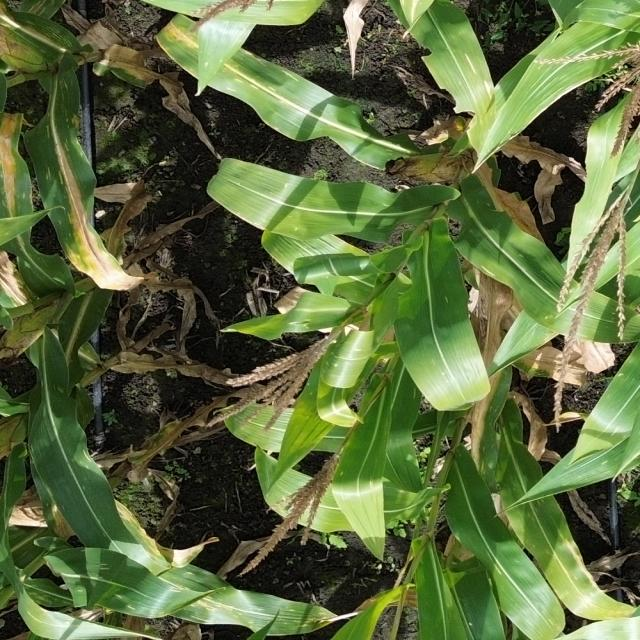gray-leaf-spot: (67, 500, 333, 634), (0, 103, 140, 305), (158, 23, 315, 109), (26, 32, 107, 162), (448, 43, 514, 127)
southern-leaf-blight: (481, 483, 604, 610), (289, 331, 370, 421)
